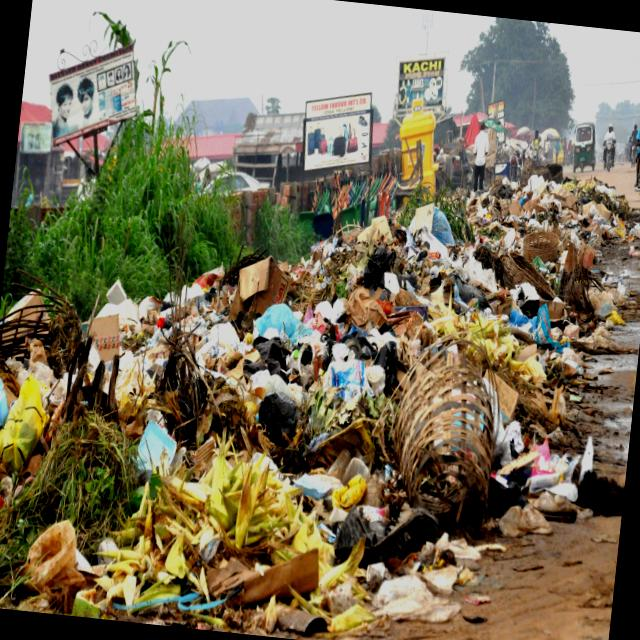garbage: (0, 149, 620, 640)
